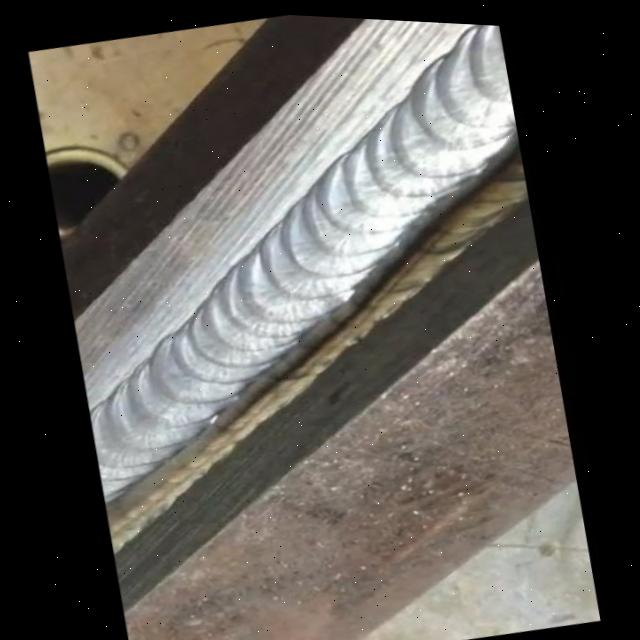Dry: (92, 20, 520, 459)
